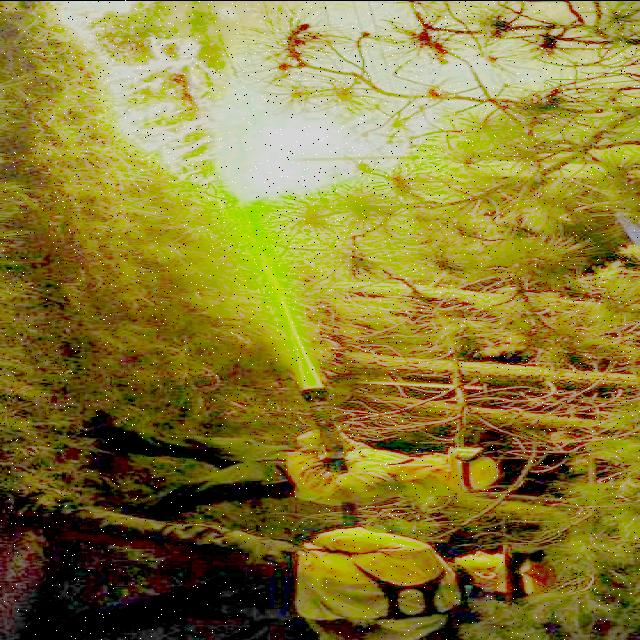api: (42, 2, 252, 186)
